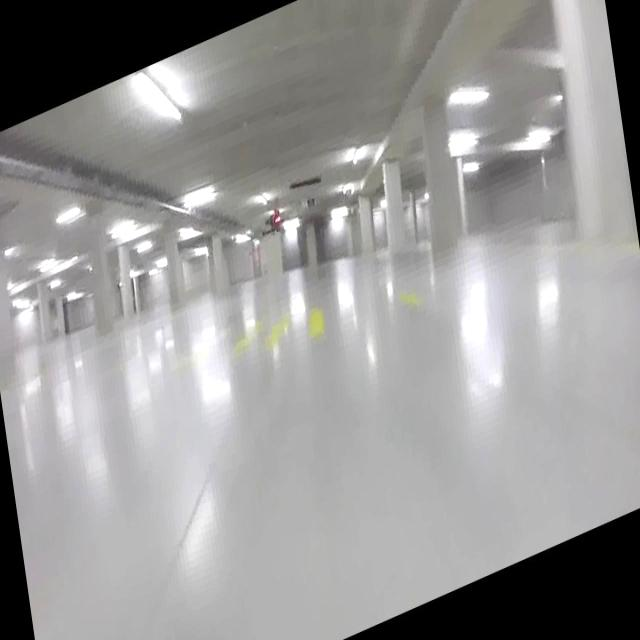drone: (258, 202, 289, 245)
